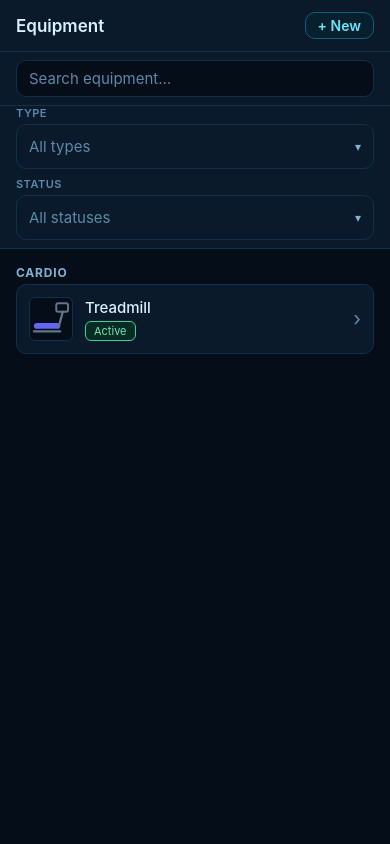
Test: opens an existing item prefilled
The width and height of the screenshot is (390, 844).
Click the text "Treadmill" at x=118, y=307, box x1=85 y1=298 x2=151 y2=316
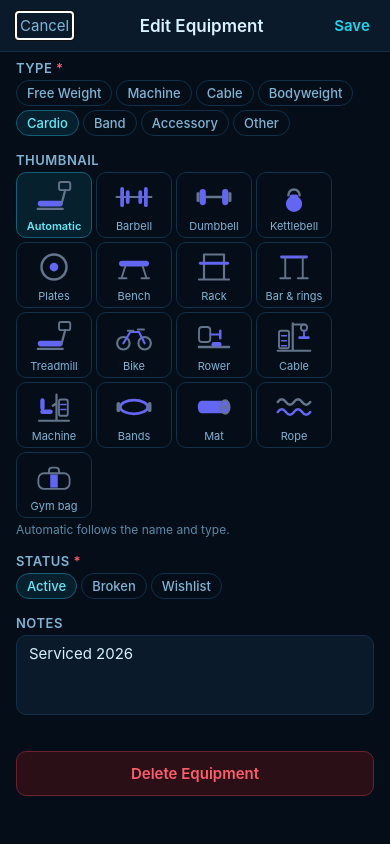
Check: the text "Edit Equipment" is shown, box x1=140 y1=16 x2=264 y2=36
Check: the text box showing "Serviced 2026" is shown, box x1=16 y1=635 x2=374 y2=715
